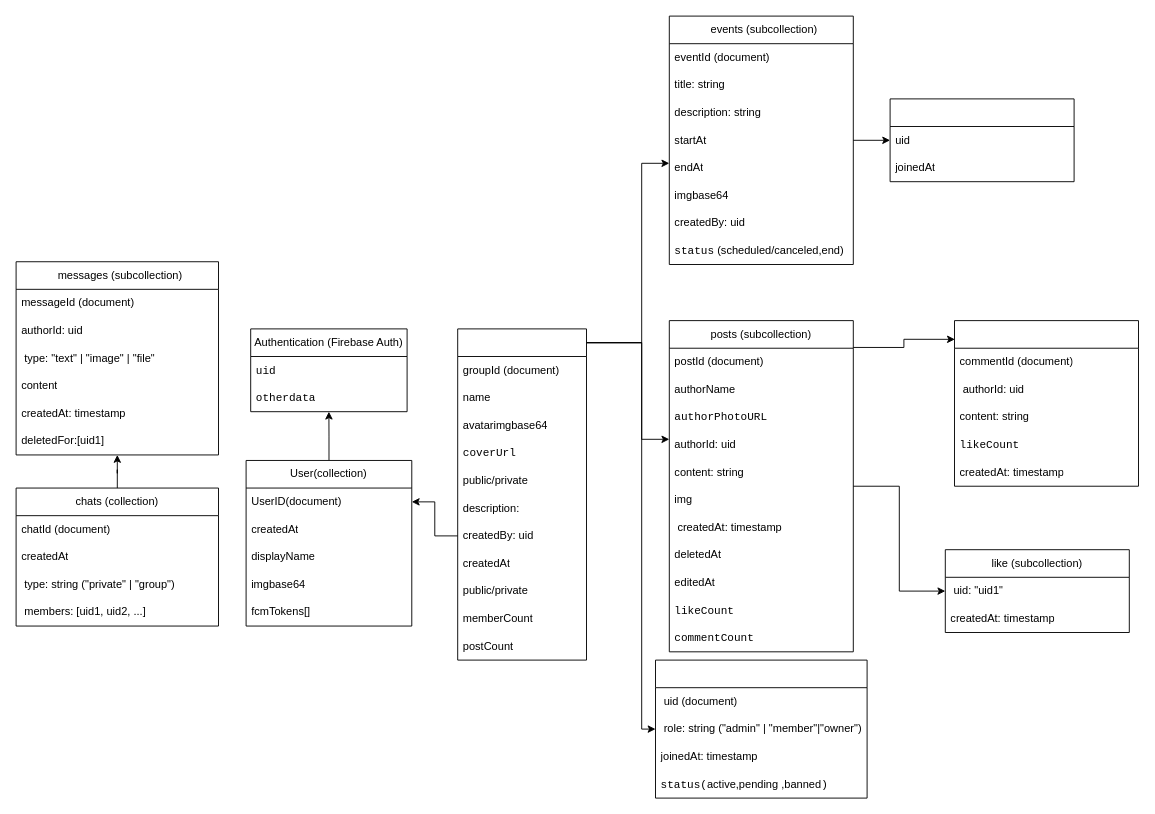
Some shapes in this 1155 by 814 pixel diagram are drawn without their labels. The box of each missing label's shape, as (x1, y1, x2, y2) in pixels:
comments (subcollection): (954, 320, 1138, 486)
groups (collection): (457, 328, 586, 660)
members (subcollection): (655, 659, 867, 798)
participants (subcollection): (889, 98, 1074, 182)
